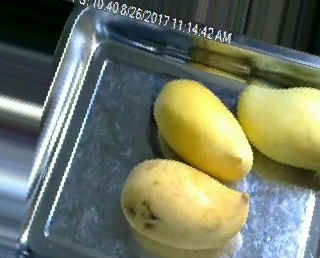Mango: (120, 154, 253, 252), (145, 77, 257, 184), (232, 81, 320, 174)
